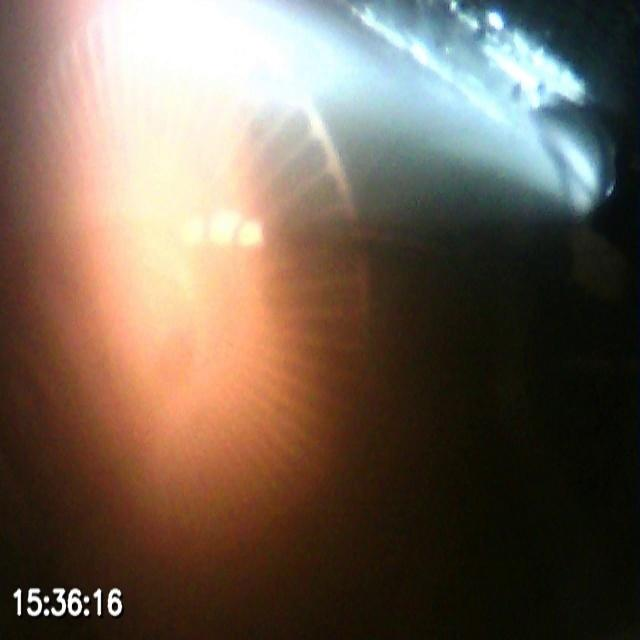white-dots: (178, 211, 266, 249)
